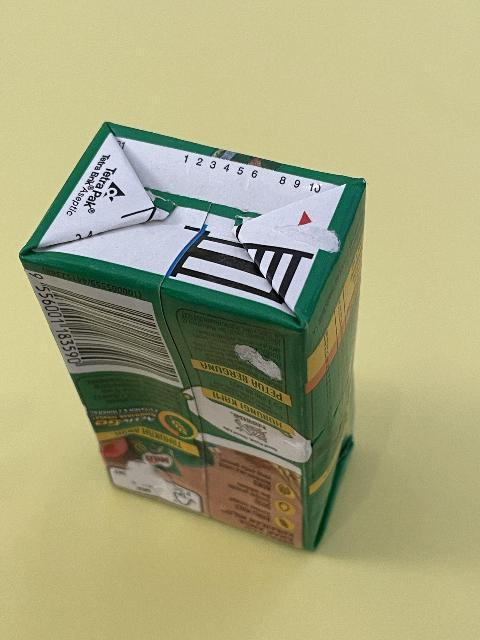drinkpack: (18, 117, 368, 559)
